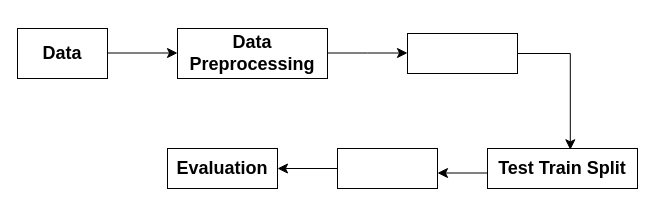
This 655x211 diagram has some shape labels left out. The centre of each missing label's shape, as x and y in pixels:
"Data Analysis" belongs at [462,53].
"ML Model" belongs at [387,168].
